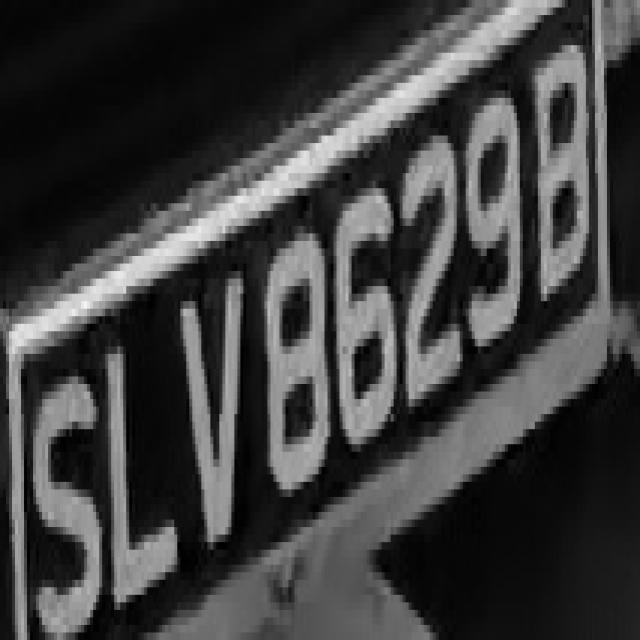2: (391, 136, 468, 414)
6: (328, 181, 402, 459)
8: (252, 196, 334, 504)
9: (457, 68, 526, 361)
B: (529, 30, 601, 324)
L: (99, 316, 183, 632)
S: (24, 339, 102, 640)
V: (166, 248, 250, 564)
